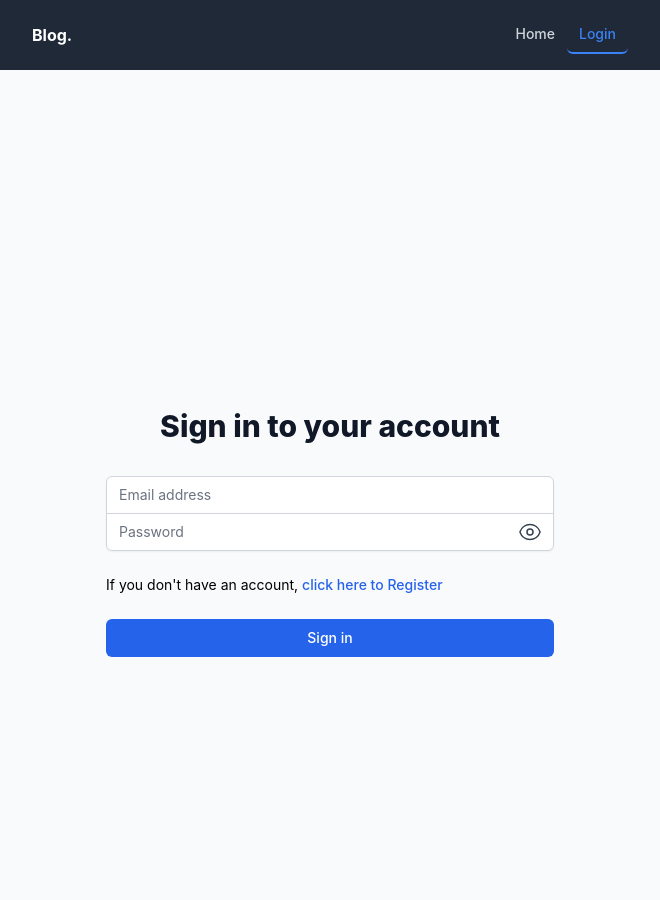
Fetching Posts › Login › shows an error message with incorrect credentials
Type "newuser@example.com" into the field with id "email-address". click: (330, 495)
box: [106,476,554,514]
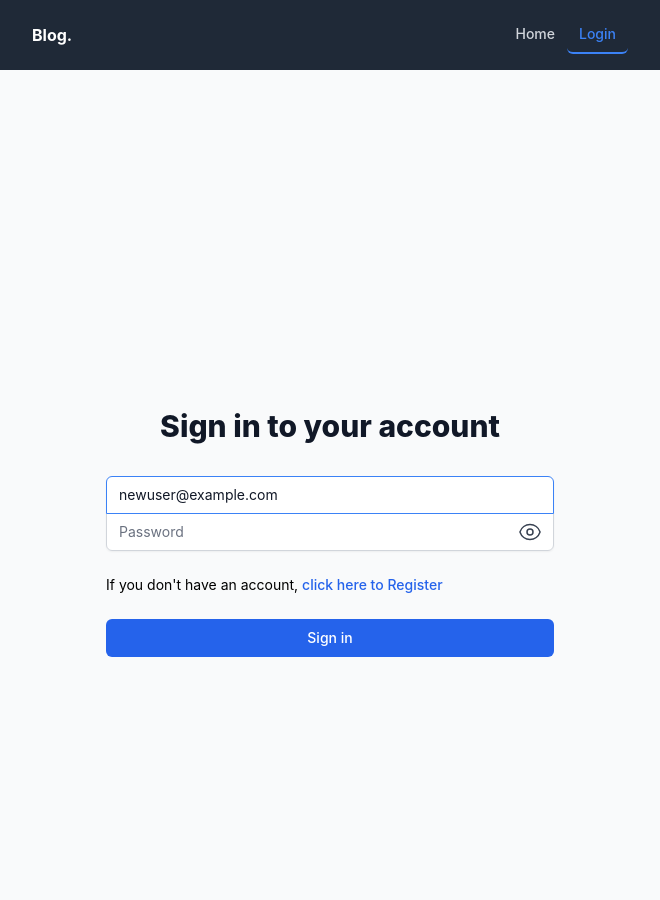
Type "password123" into the password field with placeholder "Password". click: (330, 532)
box: [106,513,554,551]
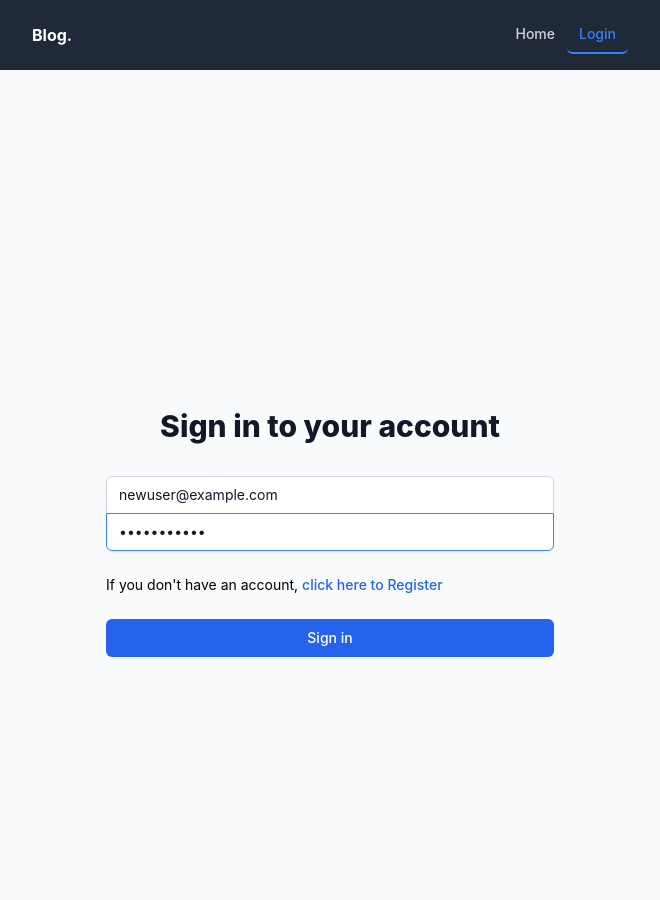
Click the button "Sign in". click: (330, 638)
box: [106,619,554,657]
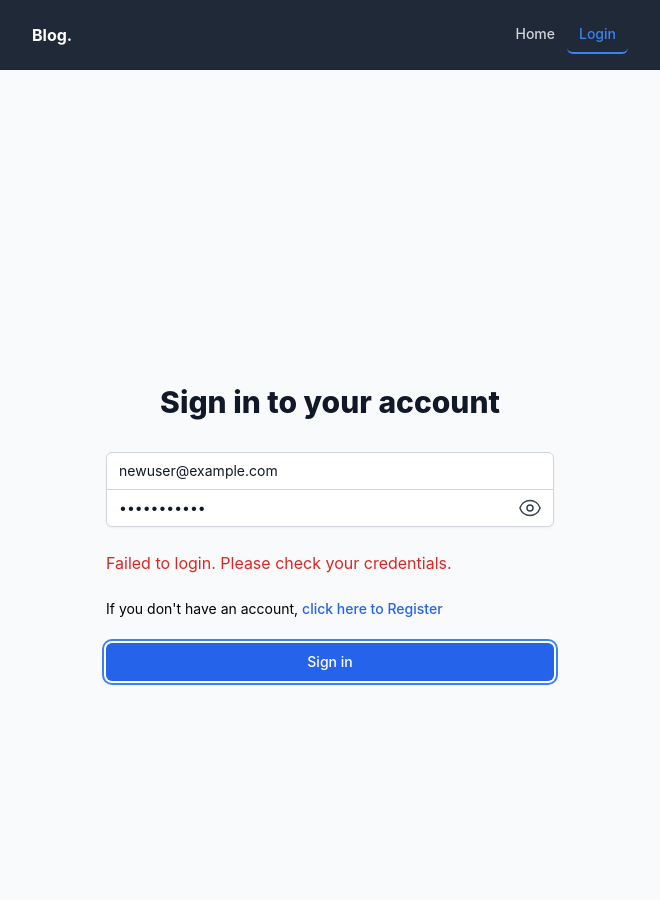
Result: the text "Failed to login. Please check your credentials." is shown at [106,552,452,572]
